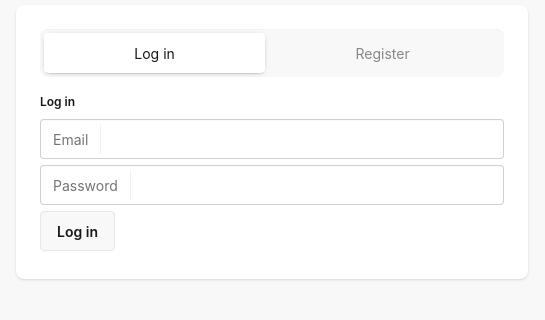
Test case: the page shows one auth form at a time
expect the button "Log in" is shown: met, box [40, 211, 115, 251]
expect the field labelled "Confirm password" is not shown: met
Click the radio button named "Register": (383, 53) [265, 33, 500, 73]
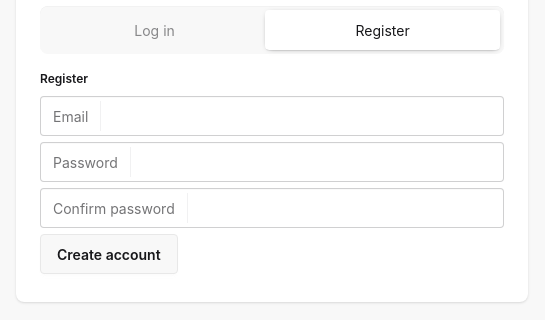
expect the button "Create account" is shown: met, box [40, 234, 178, 274]
expect the text "Log in" is gone: met
expect the password field labelled "Confirm password" is shown: met, box [208, 189, 491, 227]
